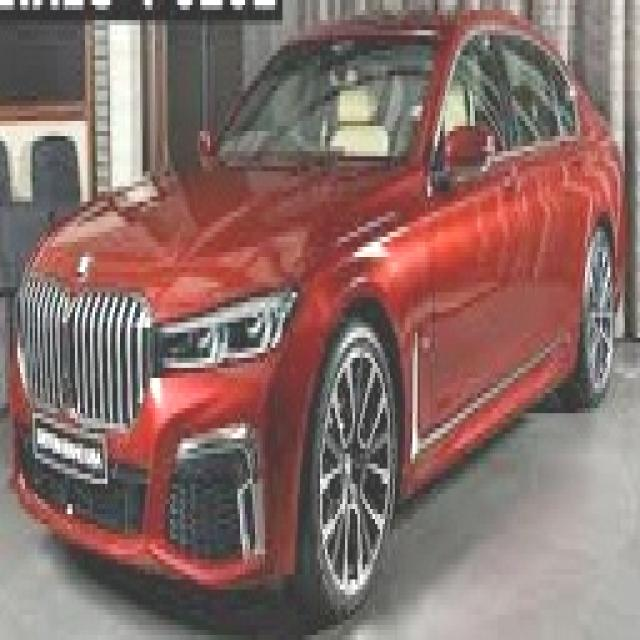maroon: (0, 7, 621, 590)
